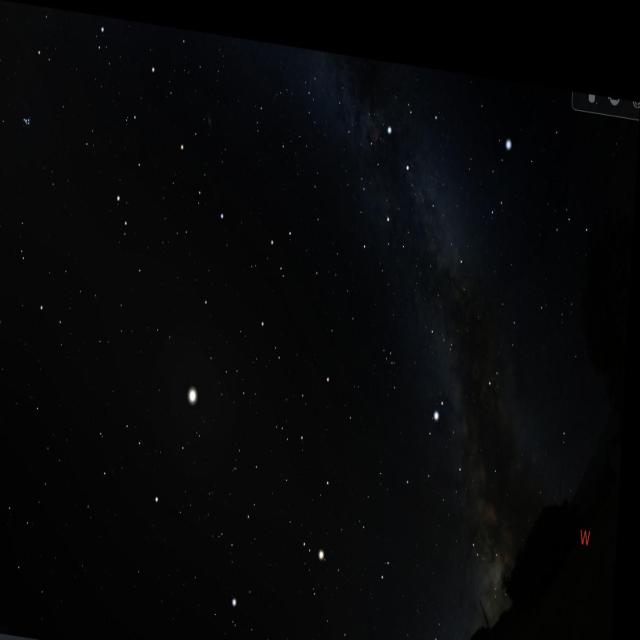aquila: (400, 373, 513, 550)
cygnus: (371, 83, 476, 261)
lyra: (478, 107, 519, 215)
pleiades: (15, 100, 41, 140)
